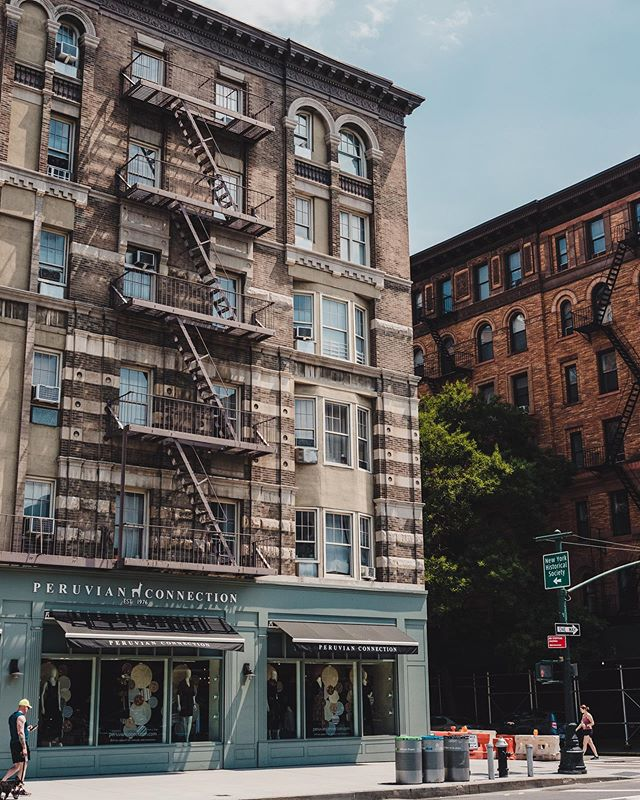building: (1, 1, 437, 752), (418, 169, 640, 764)
sky: (420, 1, 640, 222)
tree: (421, 374, 554, 664)
